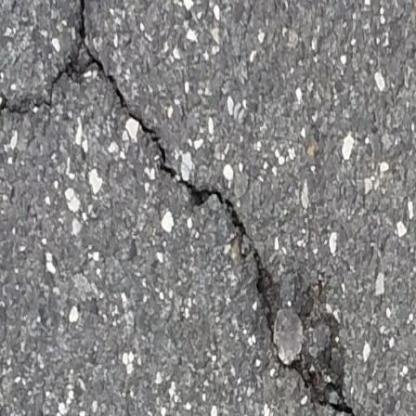Cracks: (205, 175, 374, 416), (65, 40, 238, 237), (0, 0, 104, 135)
